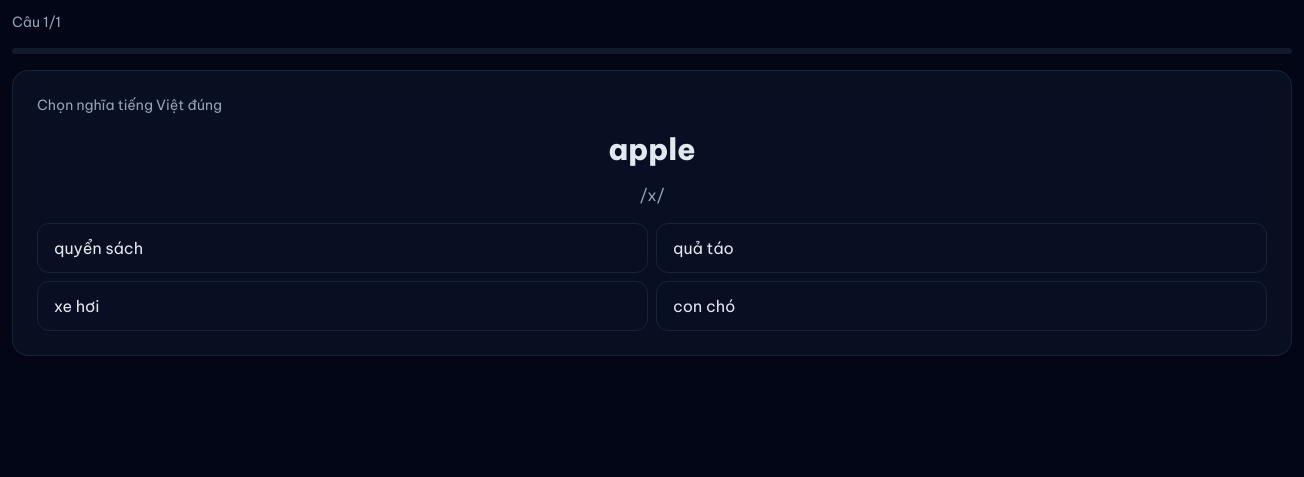
Test: QuizSession › đã trả lời thì không bấm lại được
This screenshot has width=1304, height=477.
Click the button "quả táo" at {"x": 703, "y": 248}, box [656,223,1267,273]
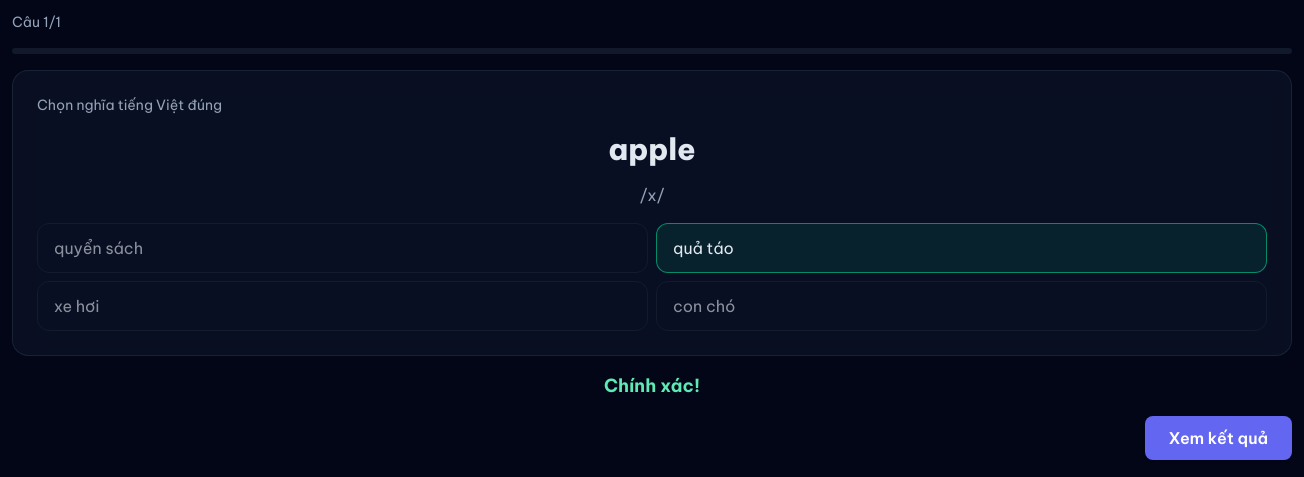
Result: the button "quả táo" is disabled at [656,223,1267,273]
